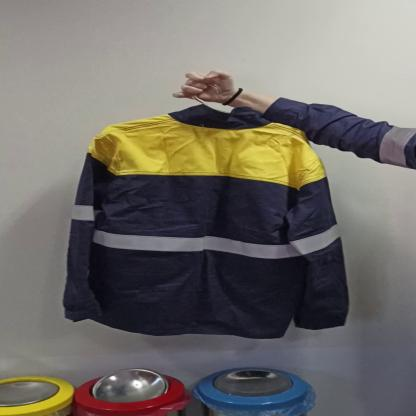C_eletrica: (58, 107, 350, 338)
